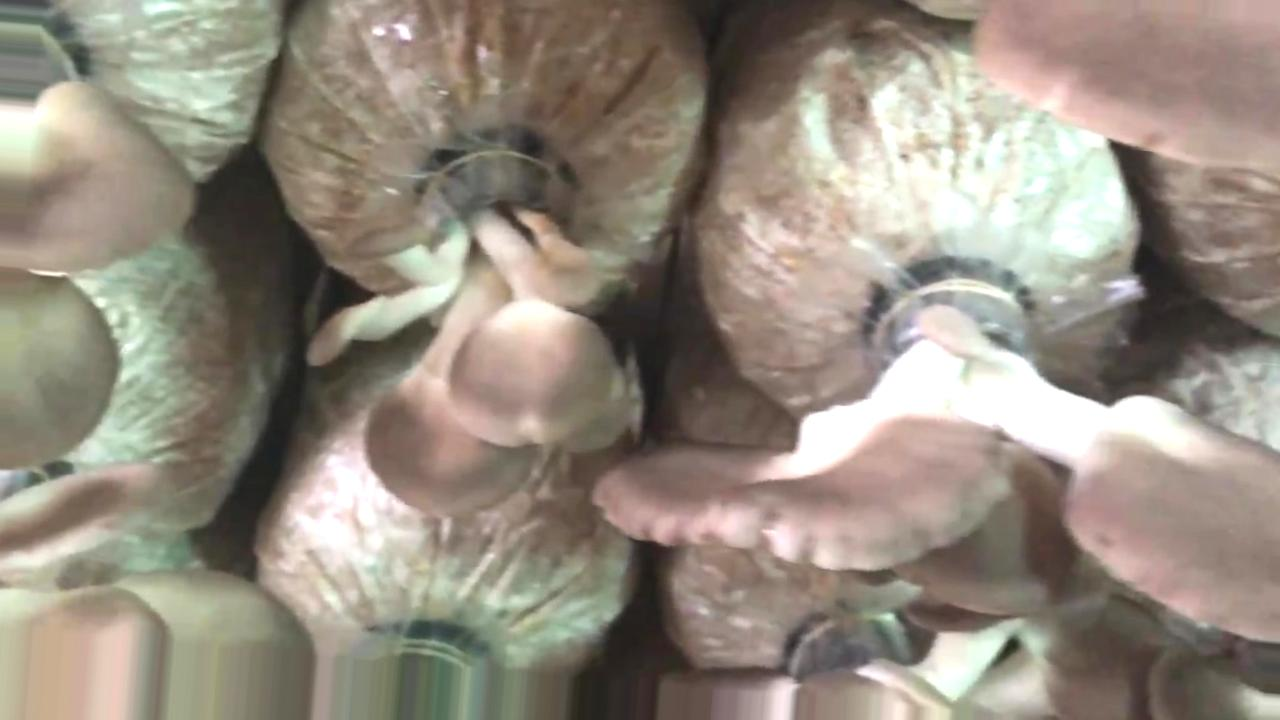nam: (589, 246, 1280, 643), (302, 114, 630, 523), (1, 6, 191, 475), (2, 470, 434, 642), (971, 2, 1280, 170)
